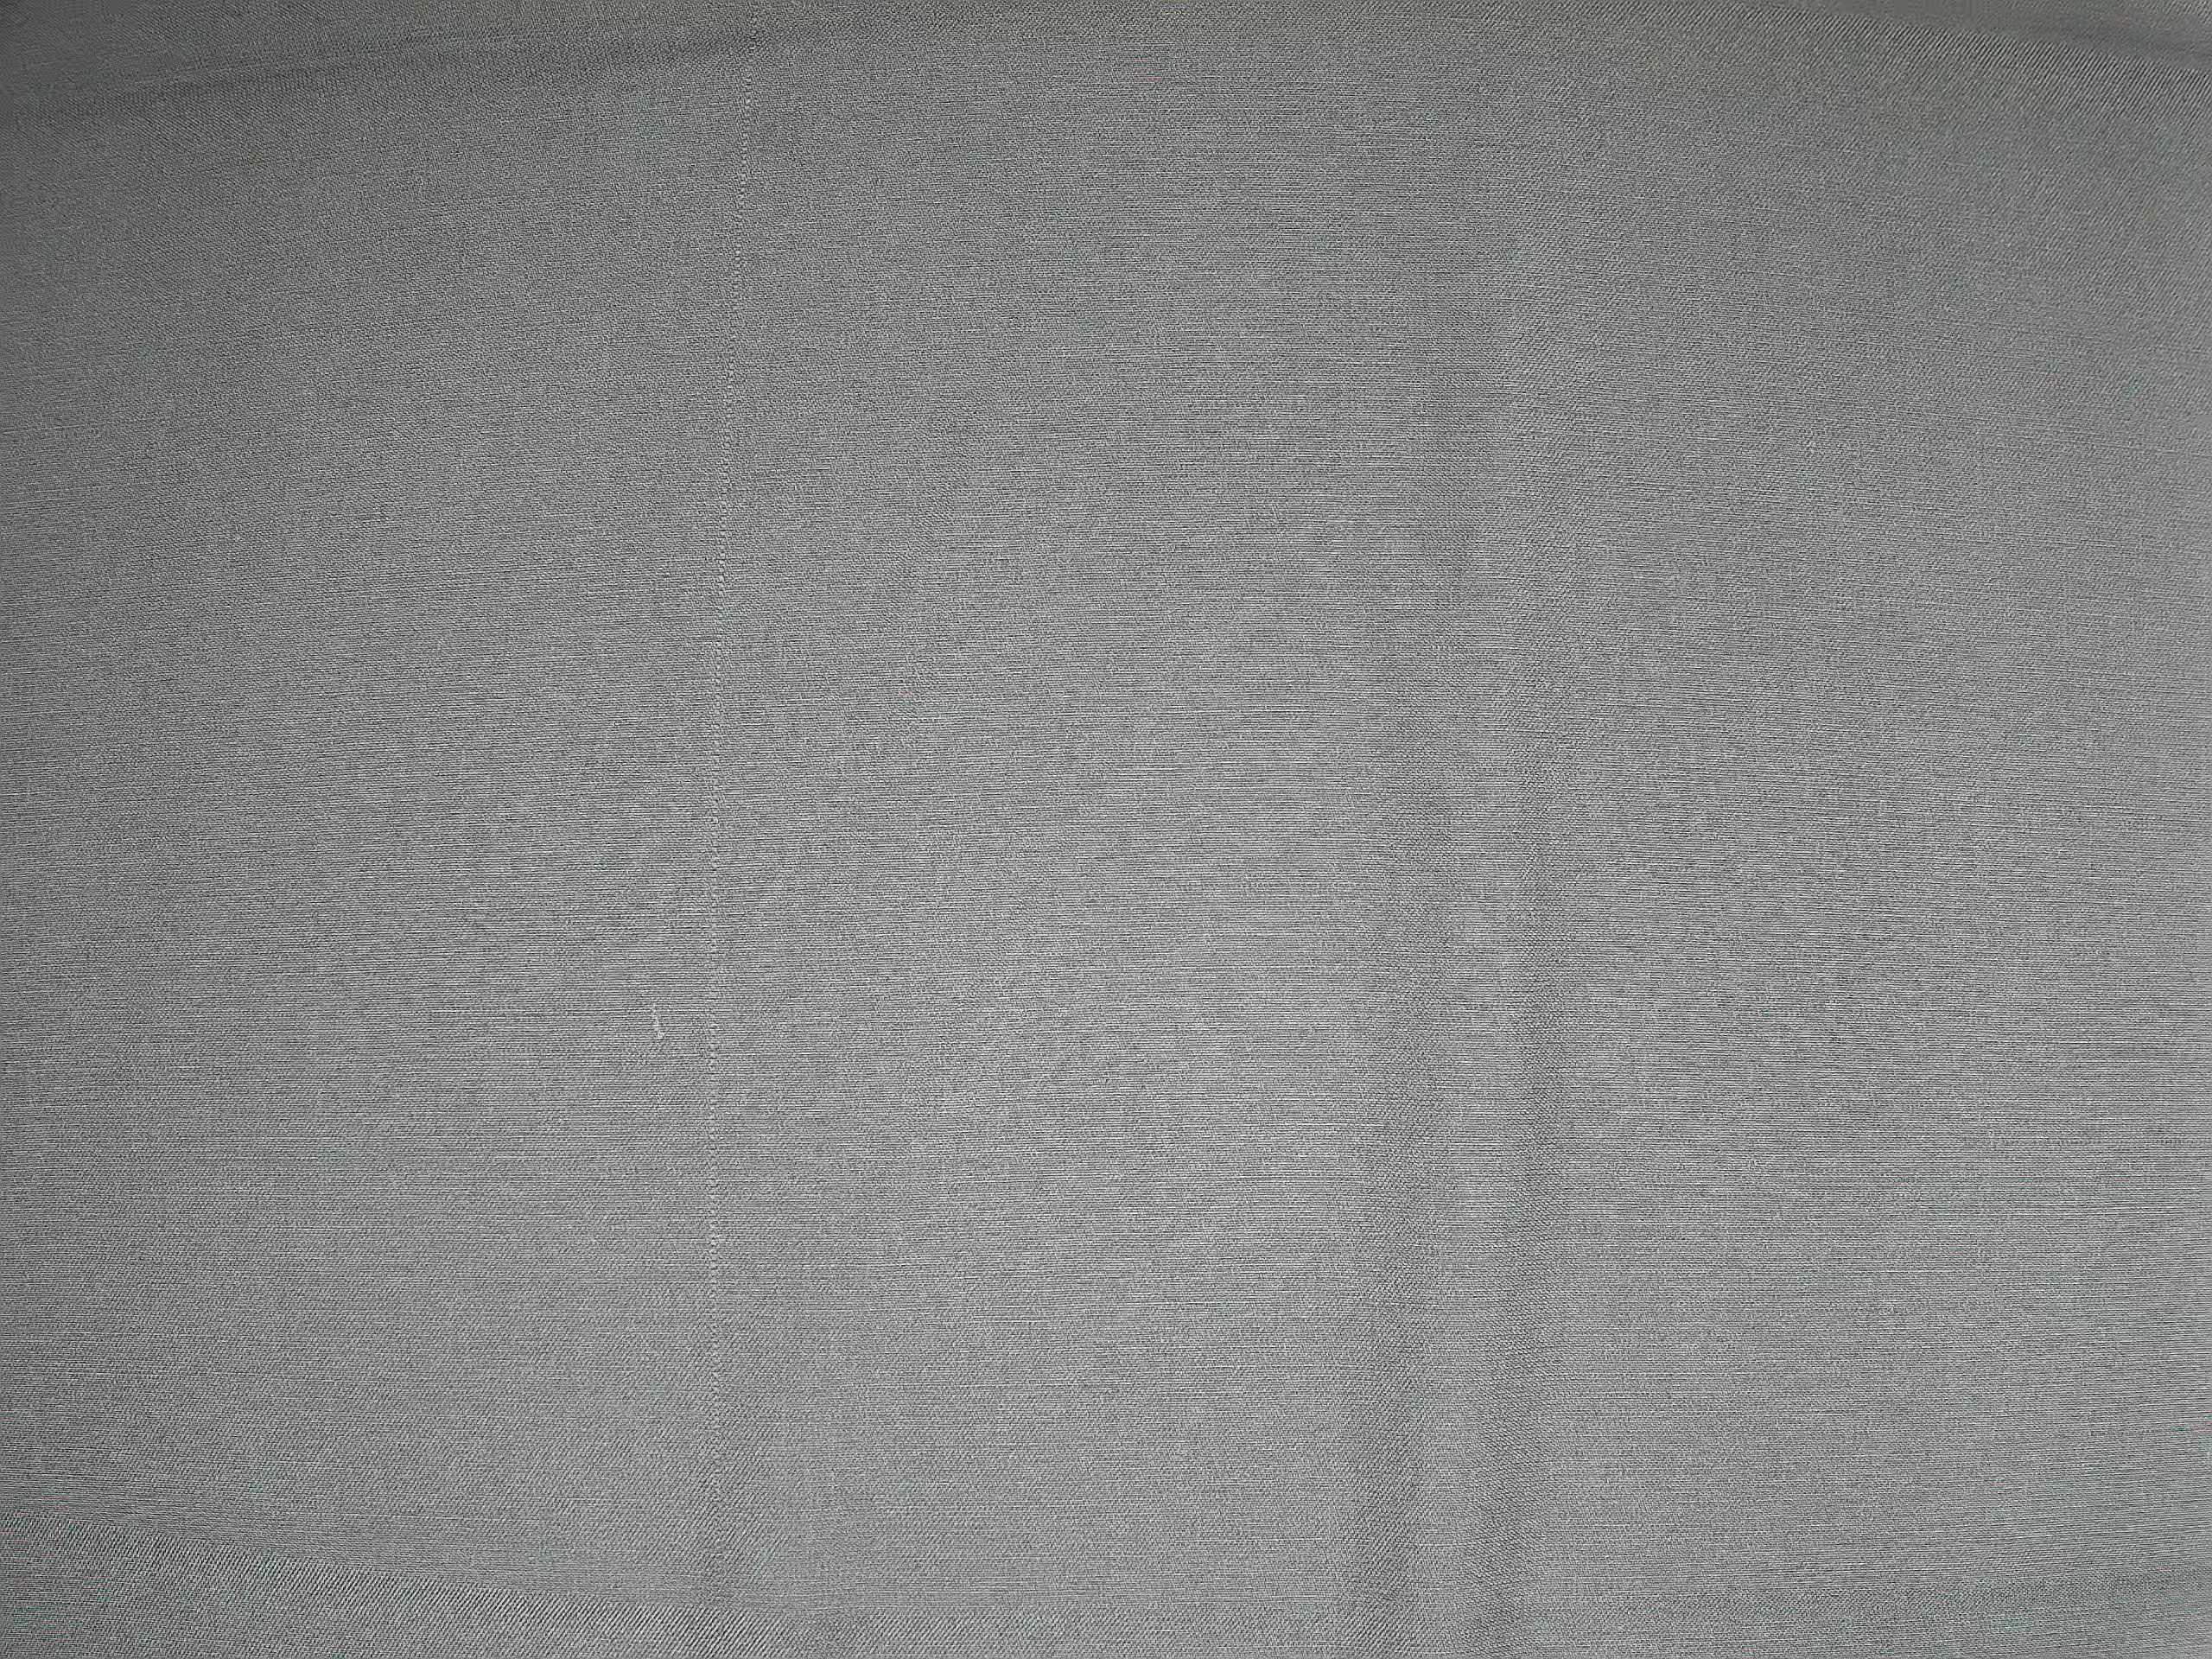lacking-warp: (697, 5, 772, 1647)
